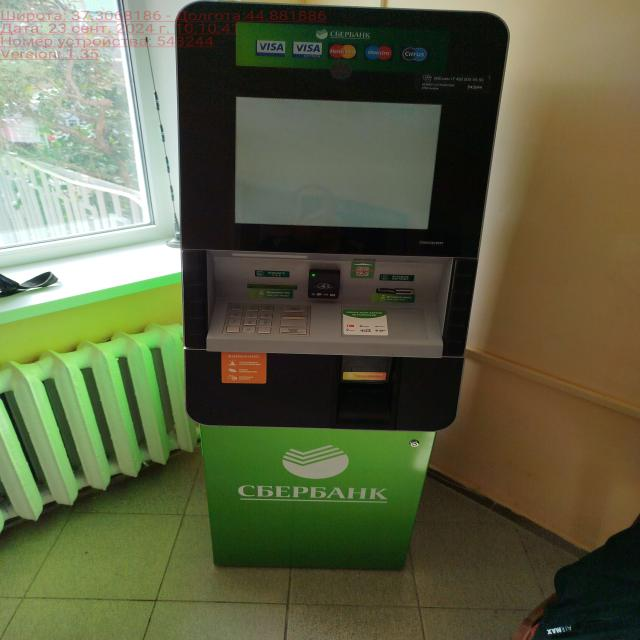bank: (179, 3, 513, 576)
